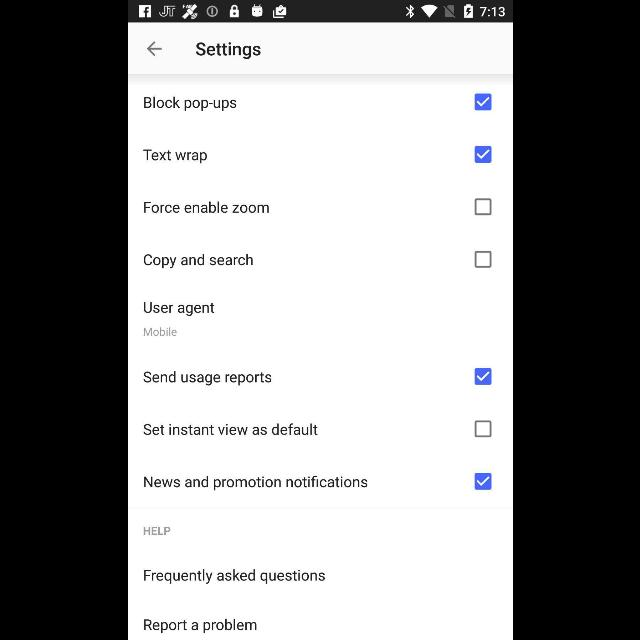checkbox: (473, 420, 491, 438), (473, 472, 491, 490), (474, 93, 491, 111), (474, 198, 491, 216), (474, 250, 491, 268), (473, 146, 491, 162), (473, 368, 491, 384)
icon: (146, 41, 162, 57)
text: (143, 476, 367, 490), (143, 423, 317, 435), (143, 370, 271, 386), (144, 254, 252, 268), (144, 201, 268, 213), (144, 96, 236, 112), (196, 42, 260, 60), (142, 302, 214, 316), (142, 150, 206, 164), (144, 328, 176, 337)
textbutton: (142, 570, 324, 584), (142, 618, 255, 634), (142, 527, 170, 535)
uppertaskbar: (128, 1, 512, 23)
